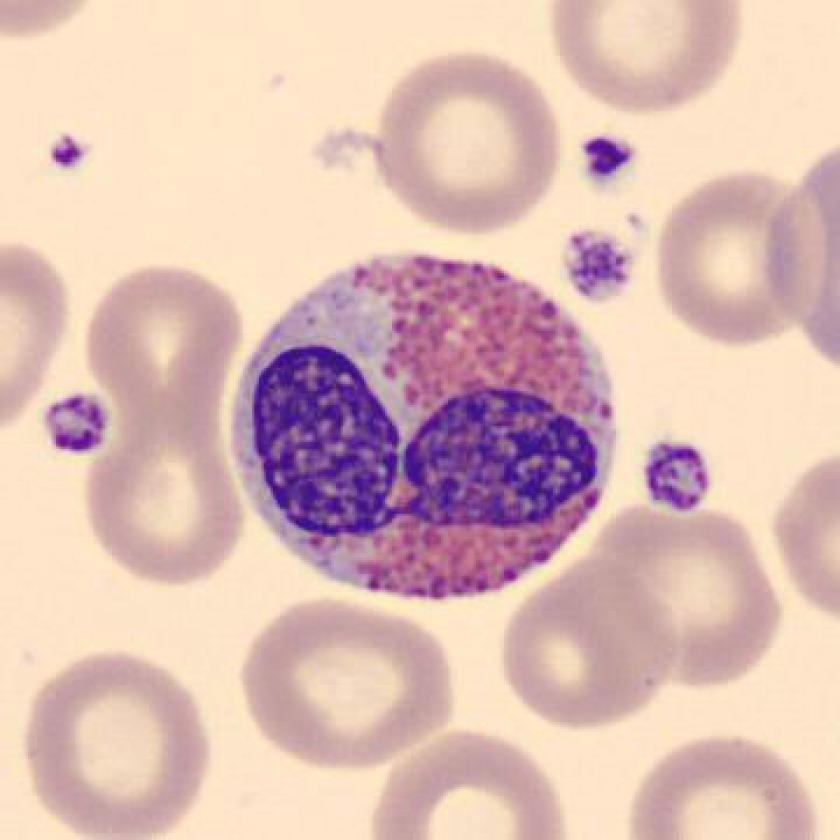eosinophil: (223, 242, 636, 617)
